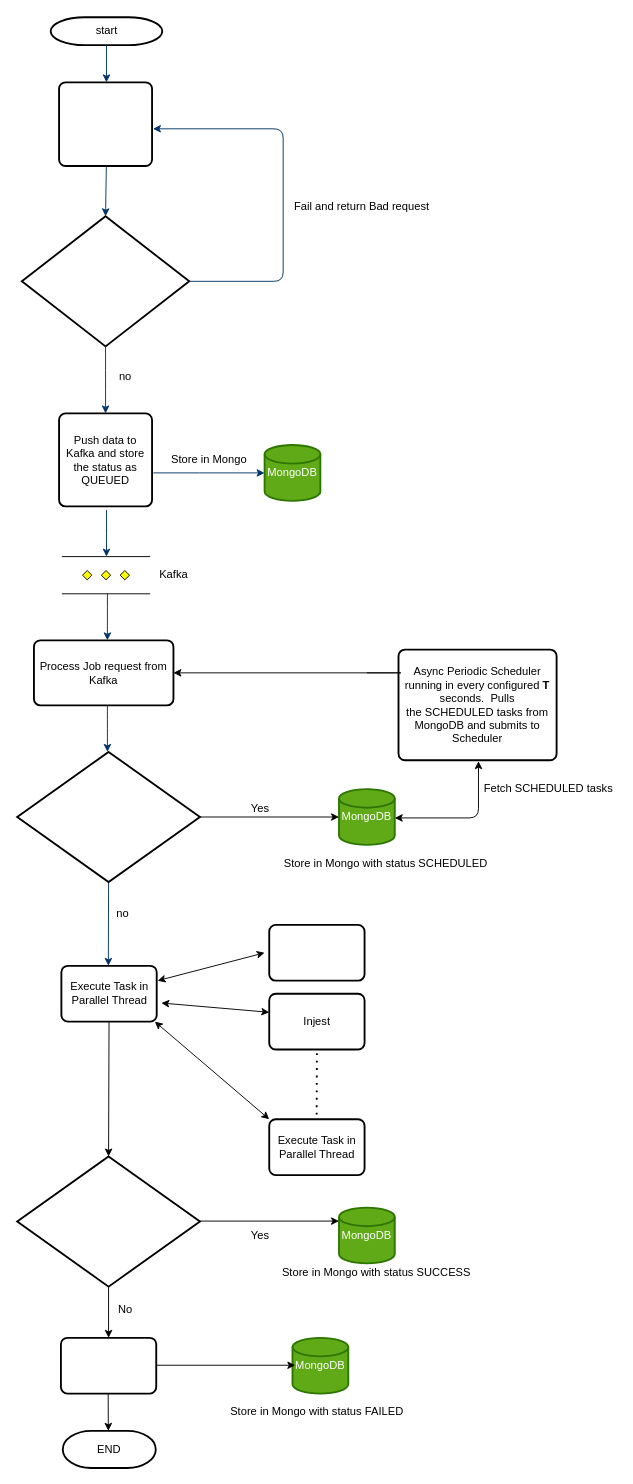
Image size: 633x1484. Some labels were removed from this diagram. The shapes that lost their labels are listed below. From the top down, each one's box as (x1, y1, x2, y2) in pixels, then its label:
(58, 81, 153, 166): Validate Job request
(20, 215, 190, 347): Is Job scheduled in past & Is not valid job type
(16, 751, 200, 883): Is Job scheduled out of. configured window time.
(268, 923, 365, 981): Action Push Notification
(16, 1155, 200, 1287): Is Task completed successfully?
(60, 1336, 157, 1394): Mark Task as failed
